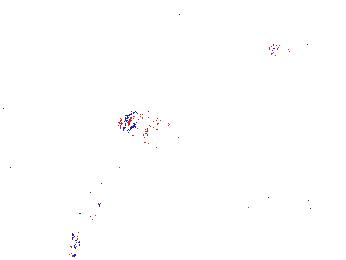X-ray fish: (117, 108, 186, 148)
glassfish: (180, 133, 273, 202), (70, 159, 122, 243)
red belly glassfish: (268, 41, 312, 58)
redtail glassfish: (173, 1, 253, 22)
